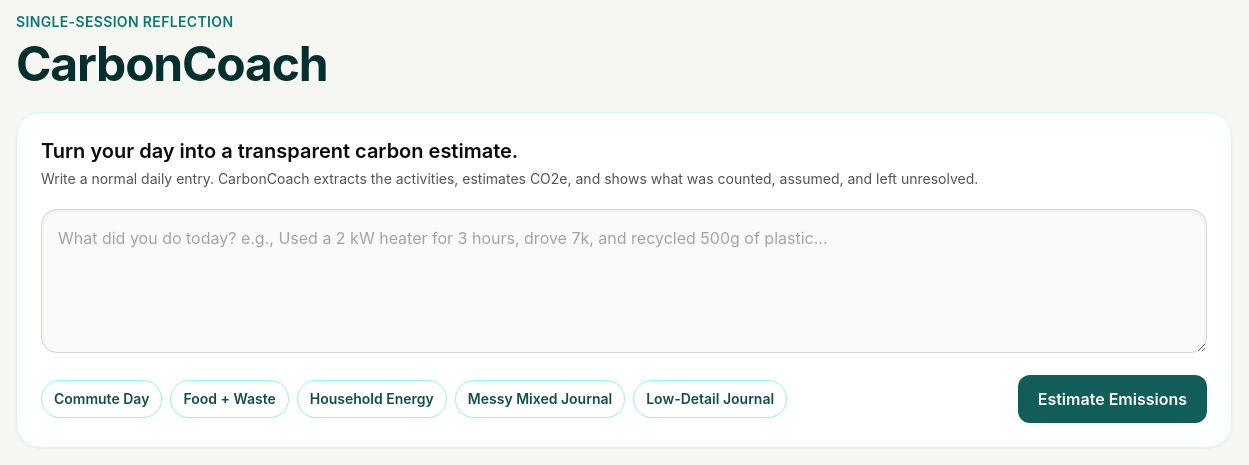
Test case: demo example chips populate the journal without creating fake results
Step 1. Click the button "Food + Waste" → (230, 399), box [170,380,289,418]
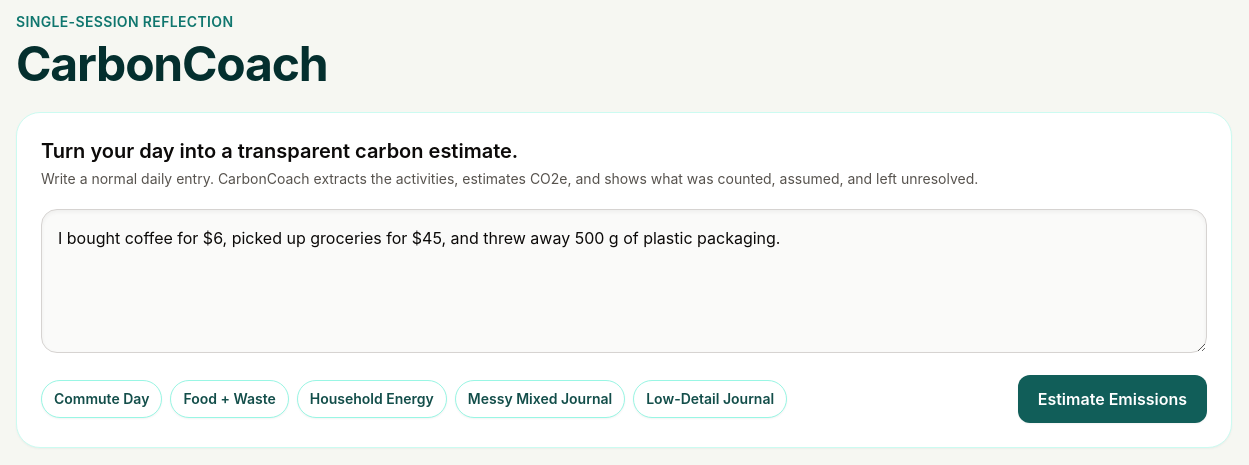
Result: the text box named "Daily journal entry" holds "I bought coffee for $6, picked up groceries for $45, and threw away 500 g of plastic packaging." at [41,209,1207,353]
